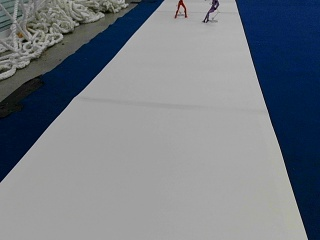pedestrian: (201, 0, 219, 22), (173, 0, 187, 18)
